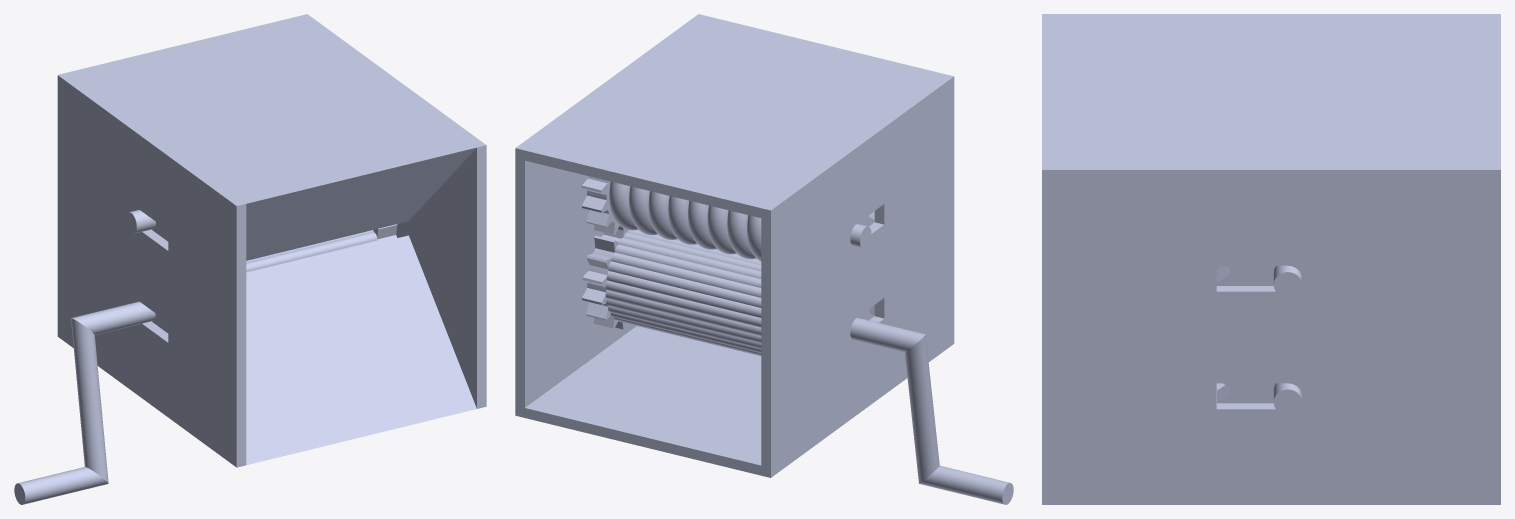
The model's file is Grinder_Assembly.gltf.
3 views of the same model, side by side, from view 1: azimuth 30°, elevation 25°; view 2: azimuth 150°, elevation 25°; view 3: azimuth 270°, elevation 25° (orthographic). The views are drawn at different scales.
Visible parts, largest first — view 1: Grinder Funnel-1, Grinder Box-1, Grinder Gear With Handle-2, Vertical roller-1; view 2: Grinder Box-1, Grinder Funnel-1, Grinder Gear With Handle-2, Vertical roller-1; view 3: Grinder Box-1, Grinder Funnel-1, Vertical roller-1, Grinder Gear With Handle-2.
Boxes of the visible parts, bbox=[...] form: Grinder Funnel-1: bbox=[168, 95, 486, 467]; Grinder Box-1: bbox=[57, 14, 417, 416]; Grinder Gear With Handle-2: bbox=[14, 224, 397, 504]; Vertical roller-1: bbox=[125, 210, 168, 241]; Grinder Box-1: bbox=[515, 65, 884, 477]; Grinder Funnel-1: bbox=[629, 14, 954, 394]; Grinder Gear With Handle-2: bbox=[582, 228, 1013, 504]; Vertical roller-1: bbox=[581, 176, 874, 261]; Grinder Box-1: bbox=[1216, 14, 1500, 504]; Grinder Funnel-1: bbox=[1042, 14, 1216, 504]; Vertical roller-1: bbox=[1216, 265, 1301, 297]; Grinder Gear With Handle-2: bbox=[1217, 265, 1301, 414].
Size of the model in its own units: 0.2052 by 0.1617 by 0.1615.
